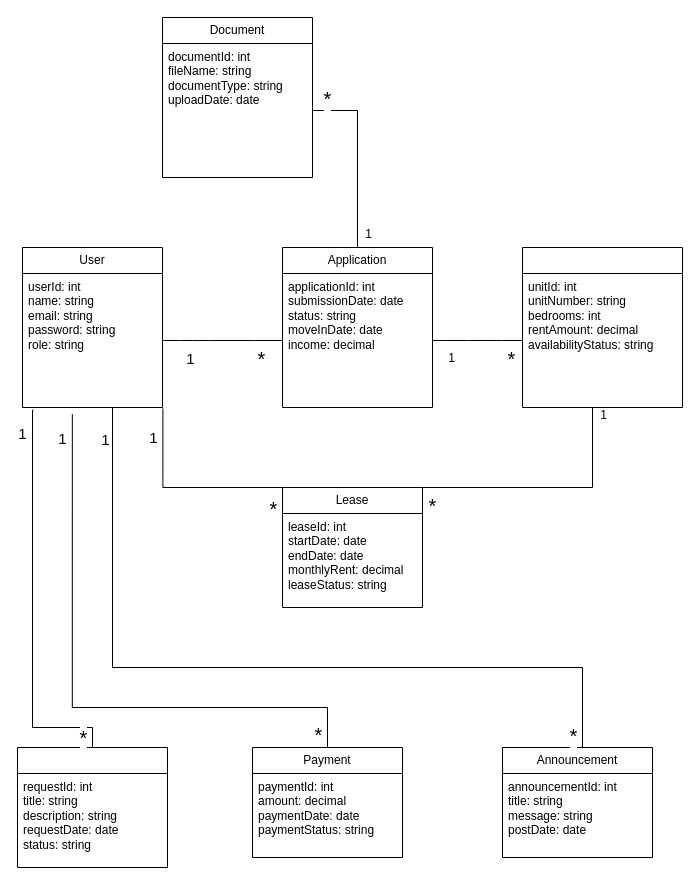
Image size: 700x888. Some labels were removed from this diagram. The box of each missing label's shape, as (x1, y1, x2, y2) in pixels:
ApartmentUnit: (522, 246, 682, 408)
MaintenanceRequest: (16, 746, 168, 868)
